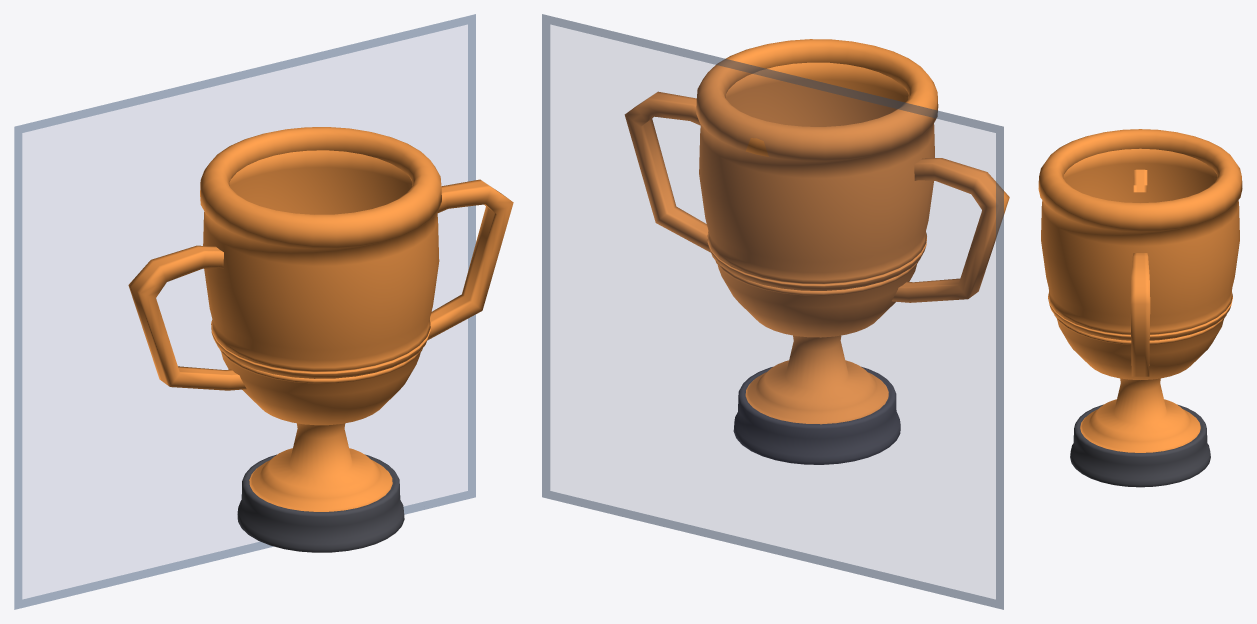
File: trophy.glb
The picture shows the model from 3 angles, left to right: view 1: azimuth 30°, elevation 25°; view 2: azimuth 150°, elevation 25°; view 3: azimuth 270°, elevation 25°; orthographic projection. The views are drawn at different scales.
Parts seen in each view (by area): view 1: Plane, Trophy; view 2: Plane, Trophy; view 3: Trophy.
Boxes of the visible parts, bbox=[...] form: Plane: bbox=[14, 14, 475, 609]; Trophy: bbox=[128, 127, 513, 552]; Plane: bbox=[542, 14, 1003, 609]; Trophy: bbox=[624, 39, 1009, 464]; Trophy: bbox=[1038, 129, 1242, 487].
Size of the model in its own units: 5.4 by 5.4 by 2.46.
